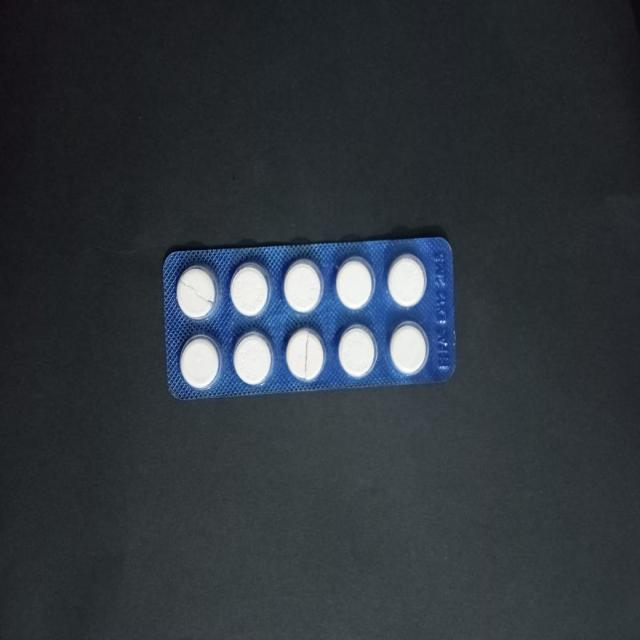defect: (174, 262, 220, 322), (283, 325, 327, 384)
